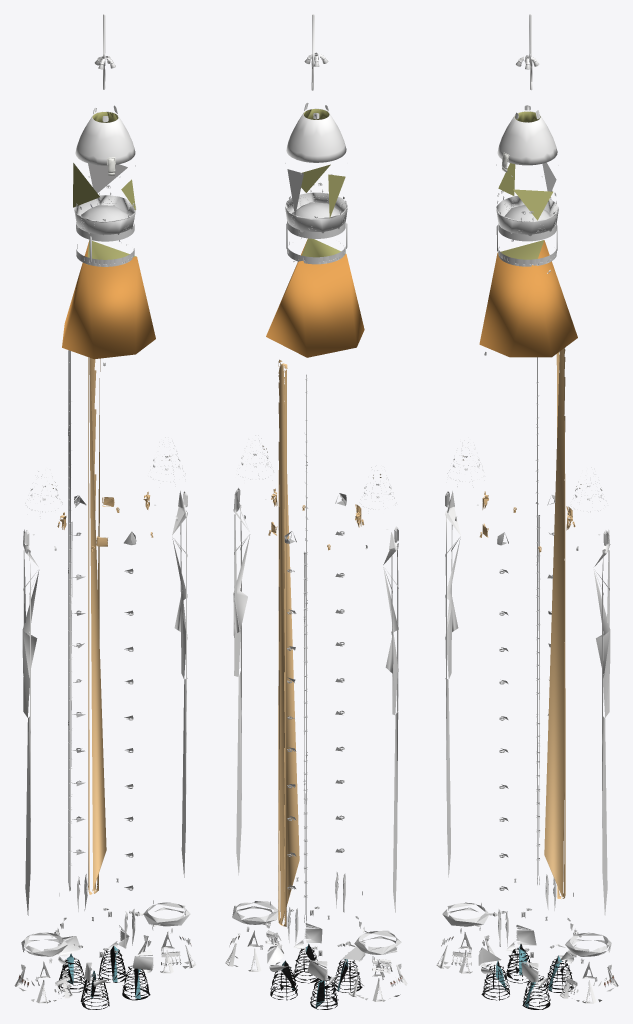
The model's file is sls_block1.glb.
The picture shows the model from 3 angles, left to right: view 1: azimuth 30°, elevation 25°; view 2: azimuth 150°, elevation 25°; view 3: azimuth 330°, elevation 25°; orthographic projection.
Visible parts, largest first — view 1: core_stage, srb_left, srb_right, orion_las, rs25_engines, orion_cm, orion_esm, icps; view 2: core_stage, srb_right, srb_left, orion_las, rs25_engines, orion_cm, orion_esm, icps; view 3: core_stage, srb_right, srb_left, orion_las, rs25_engines, orion_cm, orion_esm, icps.
Part boxes in pixels (<box>): core_stage: <box>57,204,155,986</box>; srb_left: <box>14,469,77,1003</box>; srb_right: <box>132,437,196,973</box>; orion_las: <box>75,14,135,175</box>; rs25_engines: <box>58,946,150,1009</box>; orion_cm: <box>74,195,136,235</box>; orion_esm: <box>73,163,135,221</box>; icps: <box>76,222,134,266</box>; core_stage: <box>266,222,365,984</box>; srb_right: <box>225,435,288,971</box>; srb_left: <box>343,465,407,1001</box>; orion_las: <box>286,14,346,162</box>; rs25_engines: <box>270,943,362,1009</box>; orion_cm: <box>285,192,347,233</box>; orion_esm: <box>285,162,347,218</box>; icps: <box>286,221,347,264</box>; core_stage: <box>478,240,577,986</box>; srb_right: <box>555,467,618,1003</box>; srb_left: <box>436,437,500,973</box>; orion_las: <box>497,14,557,172</box>; rs25_engines: <box>481,944,573,1009</box>; orion_cm: <box>496,196,558,236</box>; orion_esm: <box>496,162,558,221</box>; icps: <box>496,222,557,266</box>.
Bounding box in the file's own units: 17.14 × 94.62 × 10.13.
